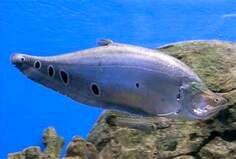Knifefish: (10, 38, 226, 122)
